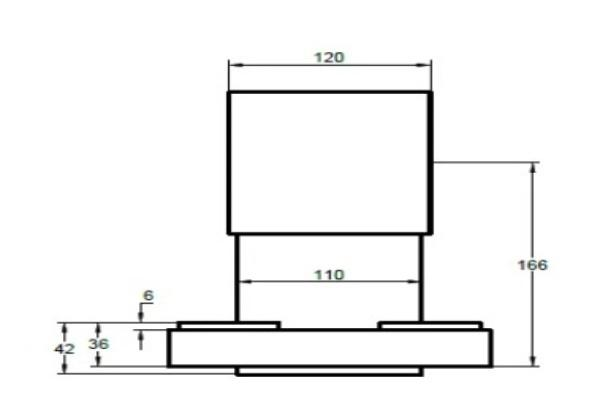dimensions: (510, 254, 554, 274), (308, 49, 351, 68), (312, 266, 352, 280), (51, 340, 82, 358), (84, 336, 114, 352), (133, 287, 160, 302)
